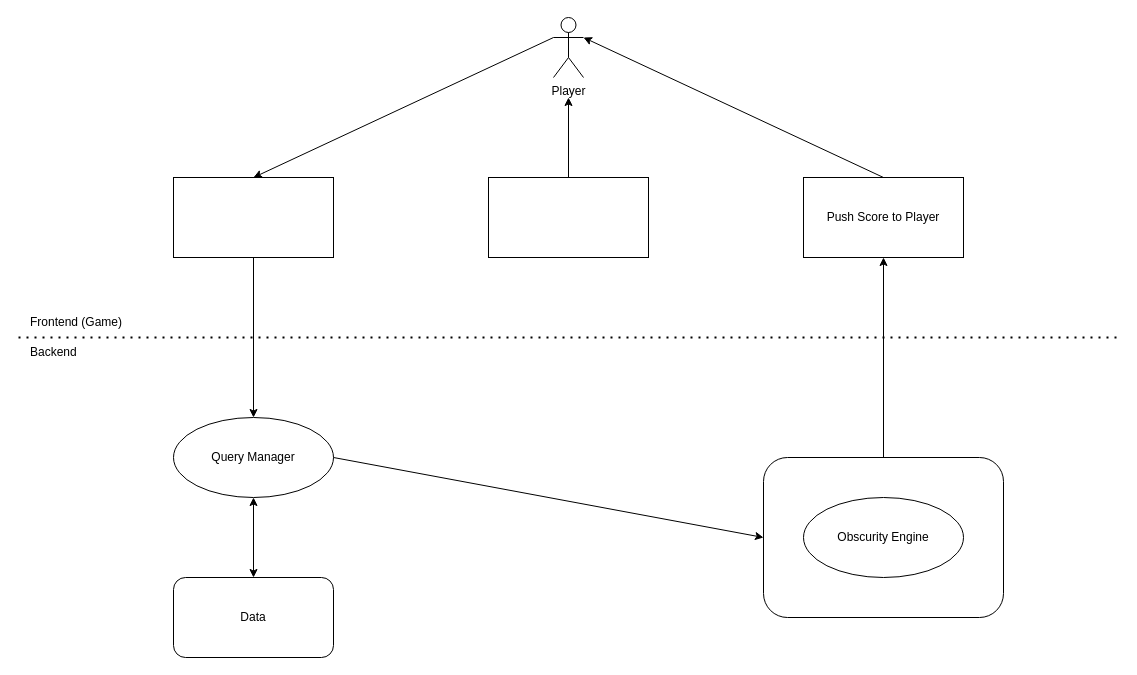
This 1137x675 diagram has some shape labels left out. The centre of each missing label's shape, as x and y in pixels:
"Get Inputs from Player" goes at (253,217).
"Push Trivia to Player" goes at (568,217).
